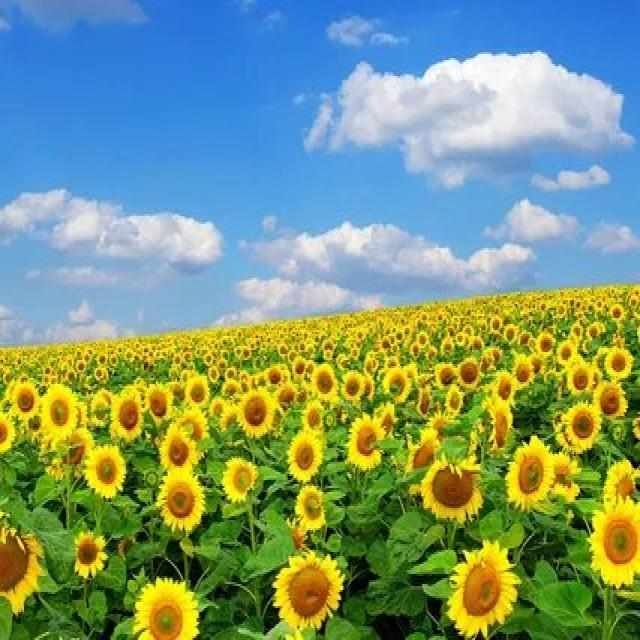sunflower: (444, 532, 524, 640), (270, 546, 349, 636), (590, 484, 640, 594), (416, 452, 486, 524), (129, 576, 202, 640), (502, 434, 558, 512), (153, 468, 210, 536), (344, 406, 386, 474), (81, 436, 127, 498), (37, 380, 78, 440), (566, 400, 606, 456), (235, 388, 276, 440), (70, 526, 111, 578), (284, 428, 322, 484), (9, 378, 42, 420), (604, 344, 637, 384), (310, 358, 340, 400), (564, 358, 592, 400), (183, 370, 213, 408), (384, 362, 411, 404), (456, 354, 482, 390), (264, 360, 288, 386), (289, 352, 309, 380)
